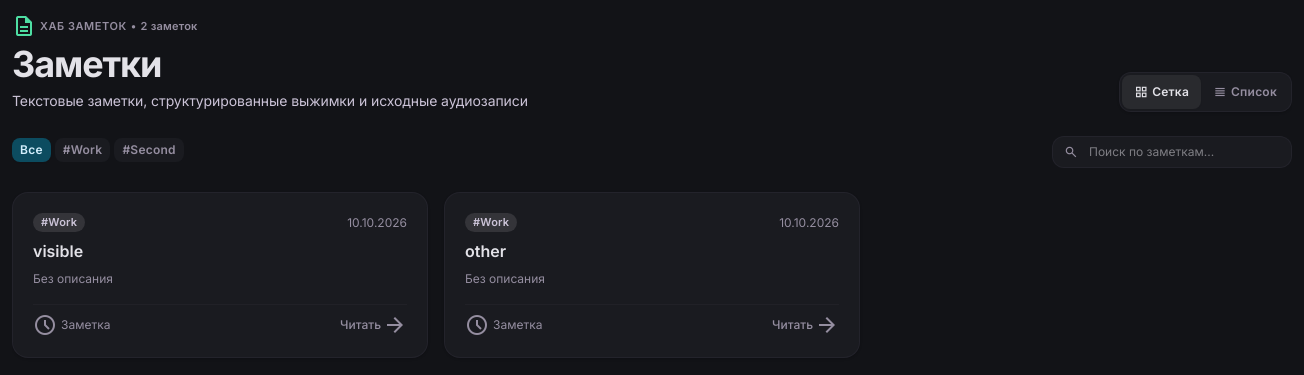
Test: Calendar, focus and details user interactions › notes can filter by secondary edited tags and omit archives
Click the button "#Second" at [149, 150], box [114,138,184,162]
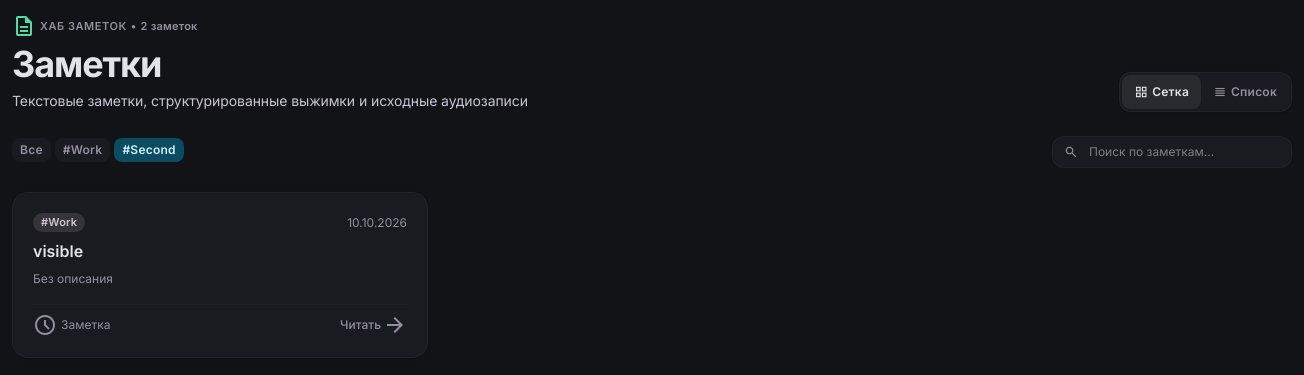
Expected: the heading "visible" is shown, [33,241,83,261]
Result: the heading "other" is gone
